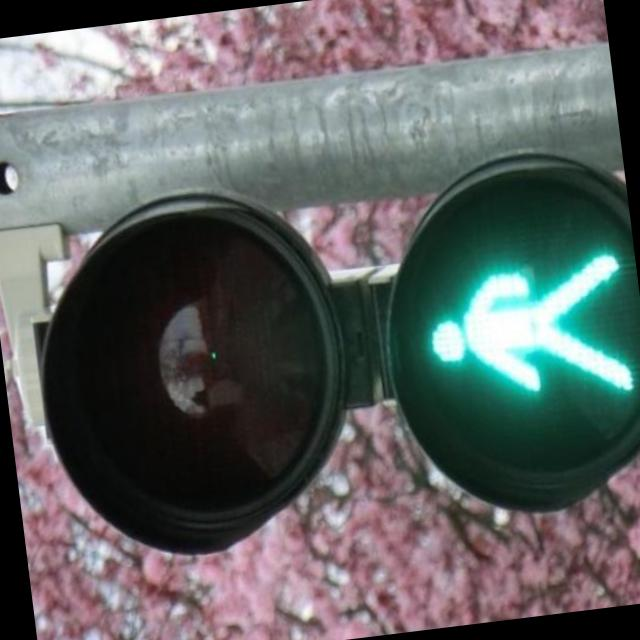green_light: (398, 228, 640, 425)
